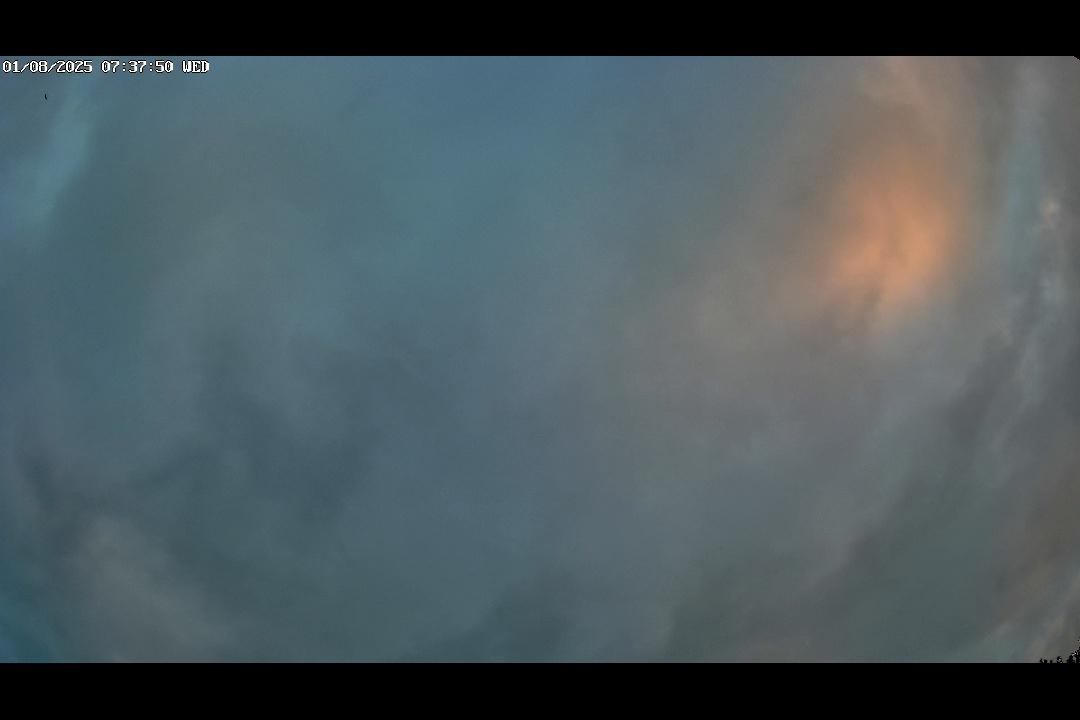WildLife: (28, 90, 59, 102)
